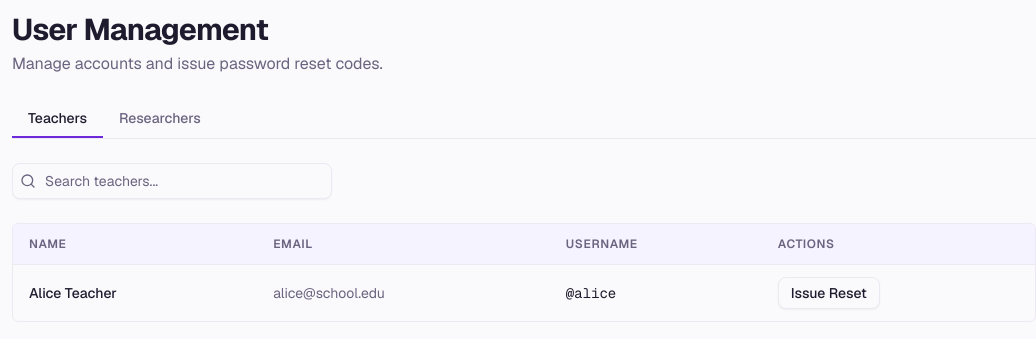
Test case: StaffManagementView › switches to Researchers tab and shows researcher data
expect the text "Alice Teacher" is shown: met, box 13,264 -> 257,321
Click the button "Researchers" at [160, 119], box 103,100 -> 217,138
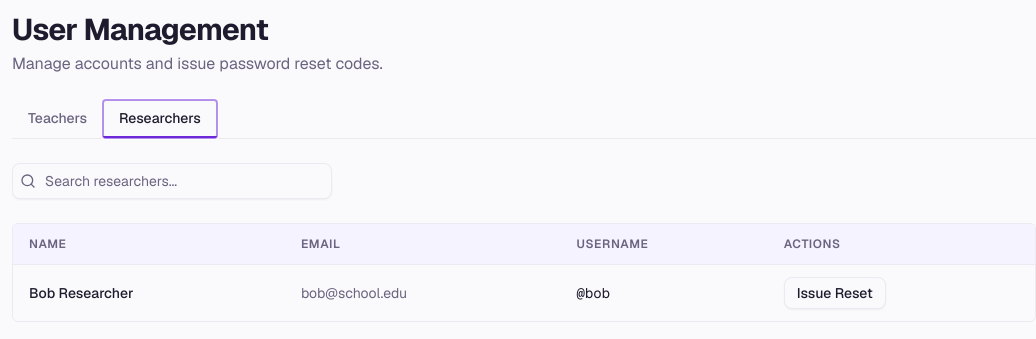
expect the text "Bob Researcher" is shown: met, box 13,264 -> 285,321
expect the text "bob@school.edu" is shown: met, box 285,264 -> 560,321
expect the text "@bob" is shown: met, box 560,264 -> 768,321
